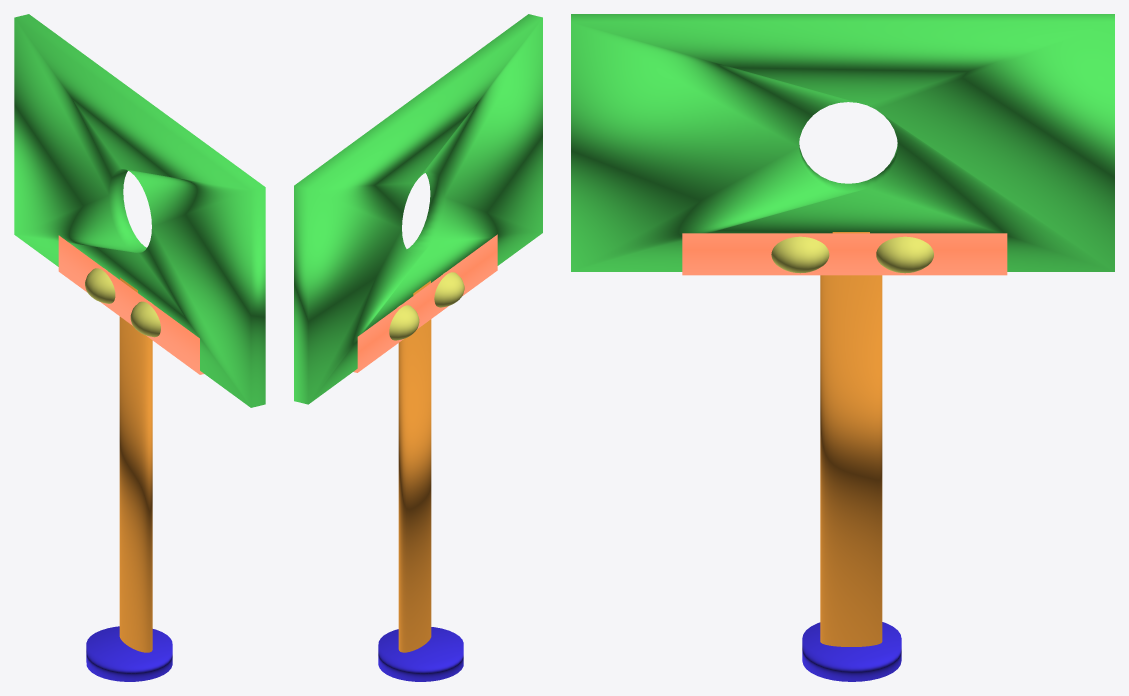
Rendered from obst1.fbx.
The picture shows the model from 3 angles, left to right: view 1: azimuth 30°, elevation 25°; view 2: azimuth 150°, elevation 25°; view 3: azimuth 270°, elevation 25°; orthographic projection. The views are drawn at different scales.
Visible parts, largest first — view 1: Cylinder.001; view 2: Cylinder.001; view 3: Cylinder.001.
Part boxes in pixels (x1,y1,x2,y2): Cylinder.001: (14,14,265,681); Cylinder.001: (294,14,542,681); Cylinder.001: (571,14,1114,681).
Bounding box in the file's own units: 200 × 1439 × 1096.
